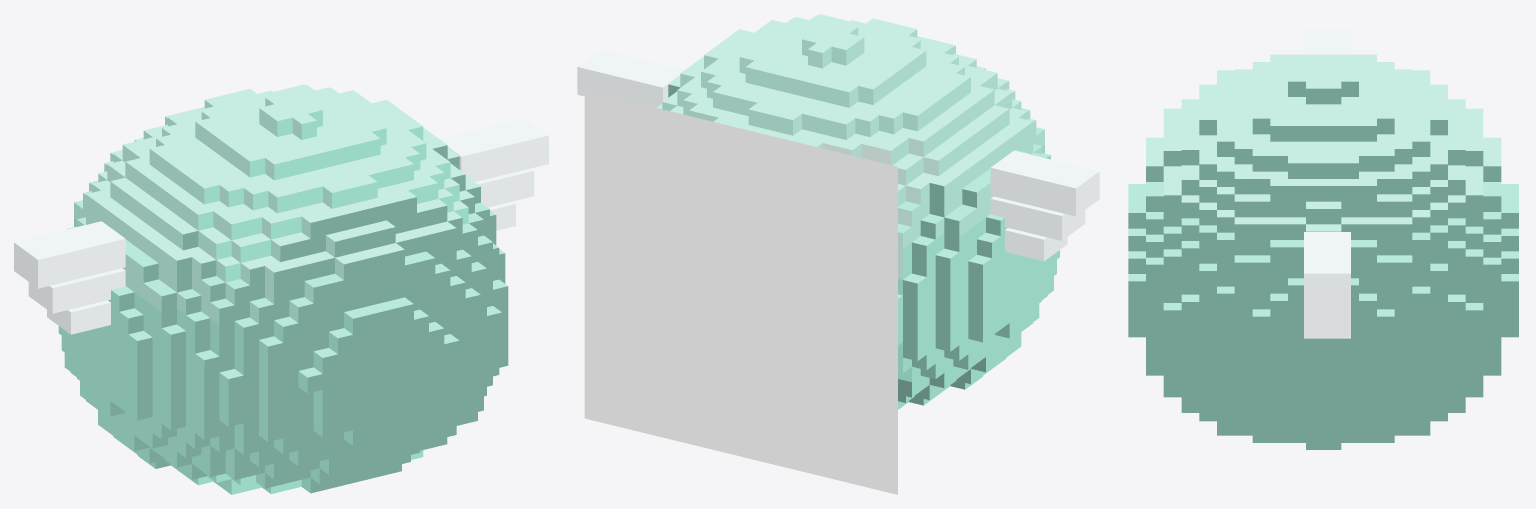
The model's file is slime_anemo.glb.
3 views of the same model, side by side, from view 1: azimuth 30°, elevation 25°; view 2: azimuth 150°, elevation 25°; view 3: azimuth 270°, elevation 25° (orthographic). The views are drawn at different scales.
Visible parts, largest first — view 1: Shell, ElementDetails; view 2: Face, Shell, ElementDetails; view 3: Shell, ElementDetails.
Boxes of the visible parts, x1,y1,x2,y2 form: Shell: [58, 84, 508, 494]; ElementDetails: [14, 118, 548, 334]; Face: [584, 90, 897, 494]; Shell: [656, 14, 1059, 409]; ElementDetails: [577, 50, 1099, 261]; Shell: [1128, 54, 1518, 449]; ElementDetails: [1304, 30, 1350, 338].
Bounding box in the file's own units: 1.68 × 1.11 × 1.15.
